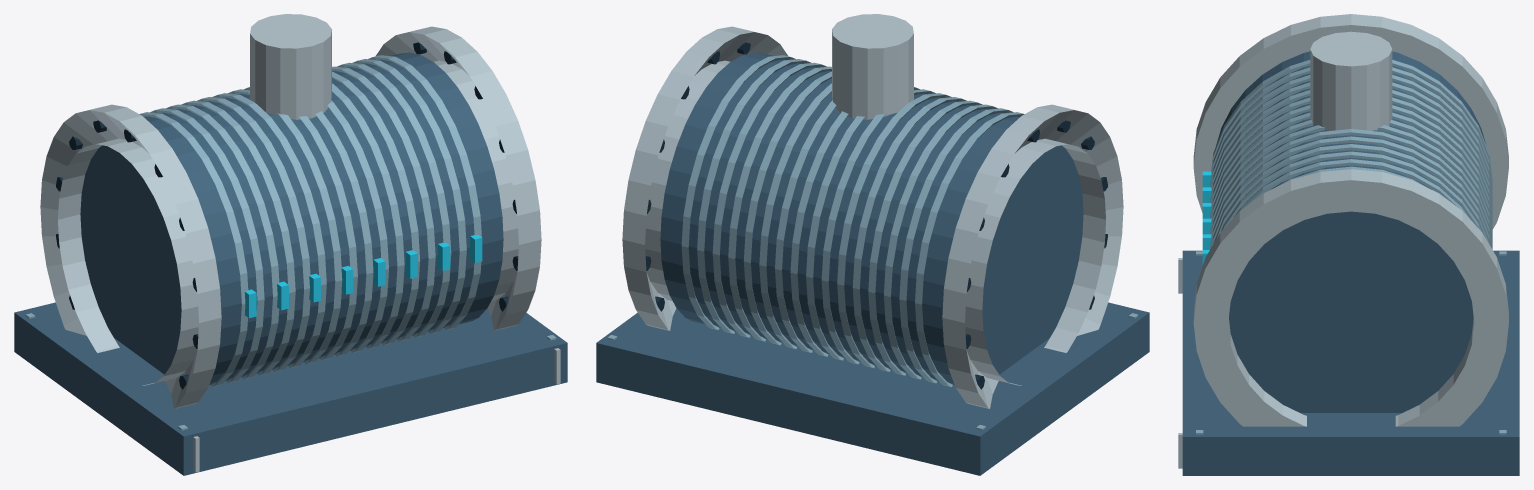
The model's file is 25_L72_TurbomolecularVacuumPump.fbx.
3 renders of one model, left to right at view 1: azimuth 30°, elevation 25°; view 2: azimuth 150°, elevation 25°; view 3: azimuth 270°, elevation 25°, orthographic.
Visible parts, largest first — view 1: TurbomolecularVacuumPump; view 2: TurbomolecularVacuumPump; view 3: TurbomolecularVacuumPump.
Boxes of the visible parts, x1,y1,x2,y2 form: TurbomolecularVacuumPump: (14,14,567,475); TurbomolecularVacuumPump: (596,14,1149,475); TurbomolecularVacuumPump: (1178,14,1519,475).
Size of the model in its own units: 204 by 170 by 158.
